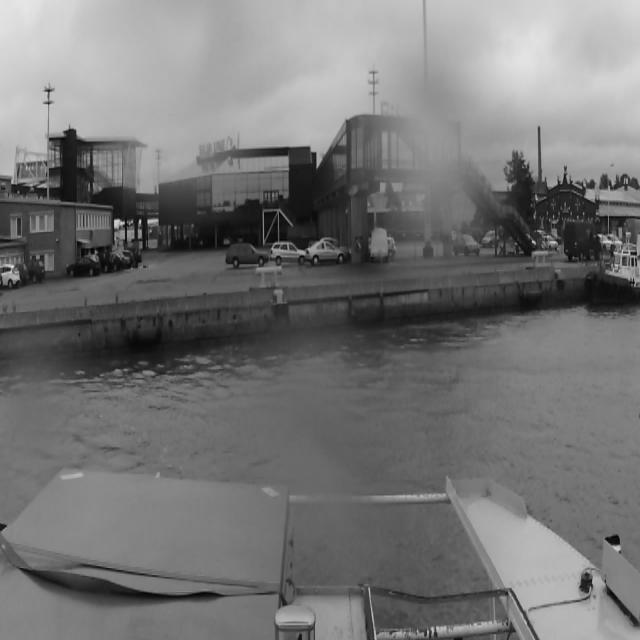ship: (584, 230, 640, 305)
